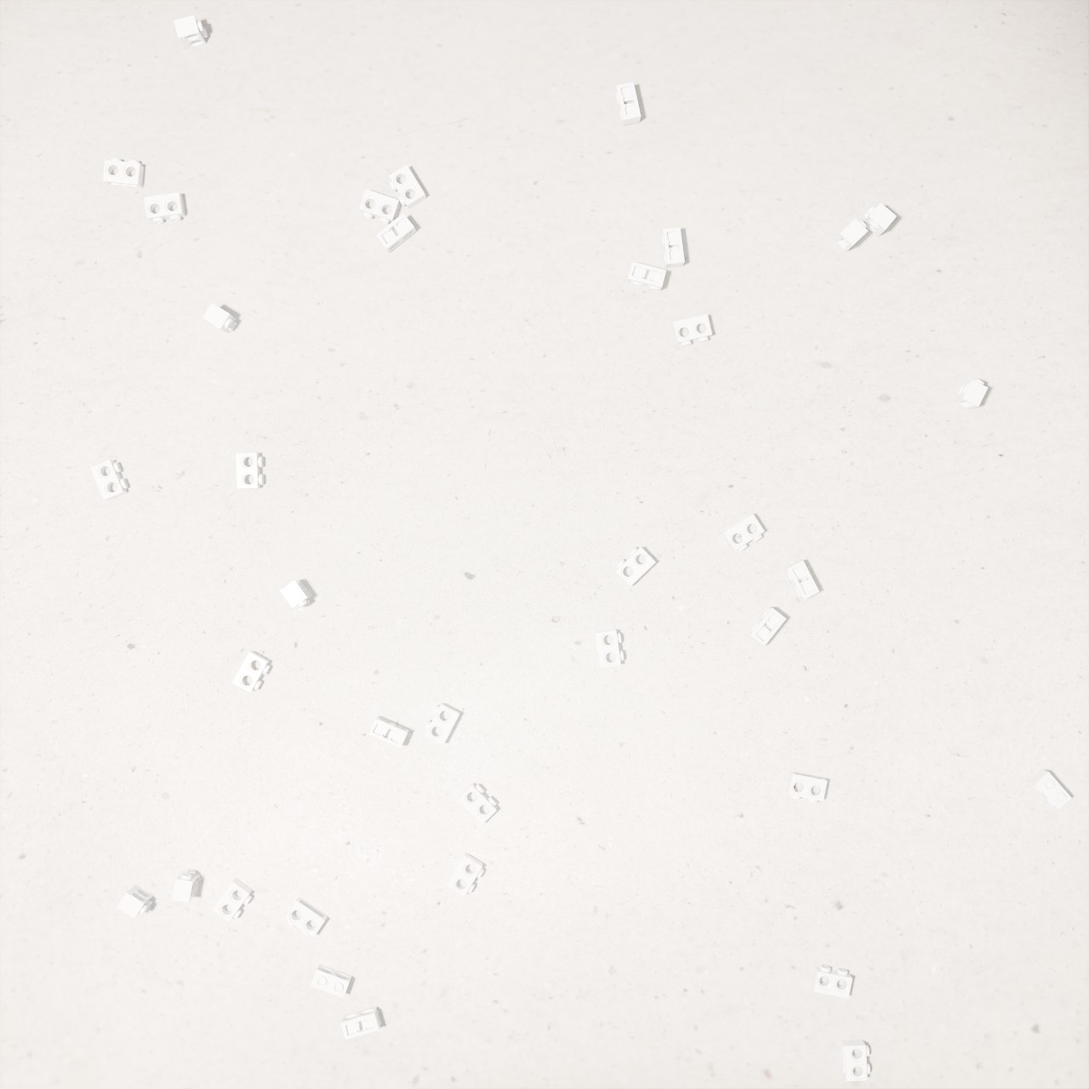lego: (212, 878, 253, 923), (284, 897, 328, 938), (1029, 769, 1072, 810), (388, 164, 427, 209), (457, 782, 497, 825), (446, 852, 484, 897), (615, 547, 656, 587), (232, 651, 271, 693), (722, 514, 765, 552), (376, 213, 416, 253), (90, 459, 128, 501), (424, 703, 461, 745), (748, 607, 786, 647), (359, 189, 401, 225), (784, 560, 820, 600), (310, 964, 352, 998), (811, 965, 853, 999), (340, 1007, 382, 1040), (368, 716, 409, 749), (144, 192, 186, 224), (672, 314, 712, 347), (786, 771, 827, 803), (117, 884, 153, 919), (103, 158, 144, 188), (862, 202, 897, 237), (841, 1040, 870, 1081), (627, 261, 666, 291), (834, 218, 868, 252), (174, 15, 208, 49), (615, 82, 641, 126), (595, 629, 624, 668), (202, 303, 237, 334), (953, 379, 988, 410), (235, 453, 264, 489), (171, 870, 201, 903), (661, 227, 685, 268), (280, 579, 312, 609)
